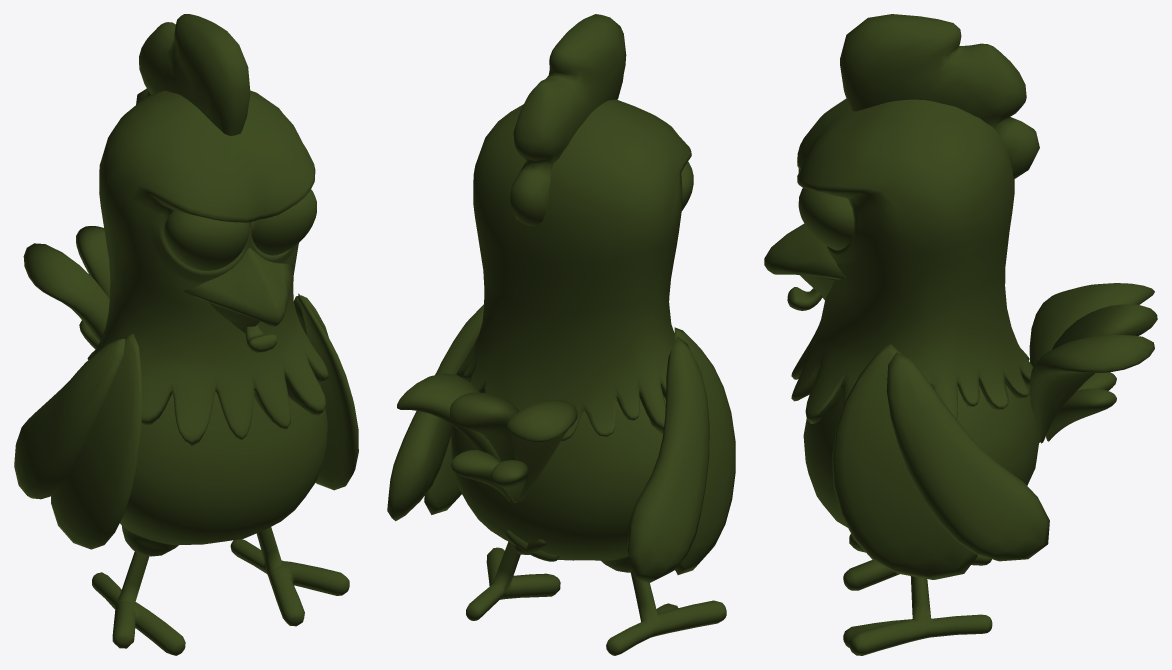
File: OthrChicken01.fbx
3 views of the same model, side by side, from view 1: azimuth 30°, elevation 25°; view 2: azimuth 150°, elevation 25°; view 3: azimuth 270°, elevation 25° (orthographic).
Visible parts, largest first — view 1: BasicChicken02; view 2: BasicChicken02; view 3: BasicChicken02.
Part boxes in pixels (<box>): BasicChicken02: <box>14,14,358,655</box>; BasicChicken02: <box>387,14,735,655</box>; BasicChicken02: <box>764,14,1157,655</box>.
Bounding box in the file's own units: 44.36 × 90.64 × 53.66.
